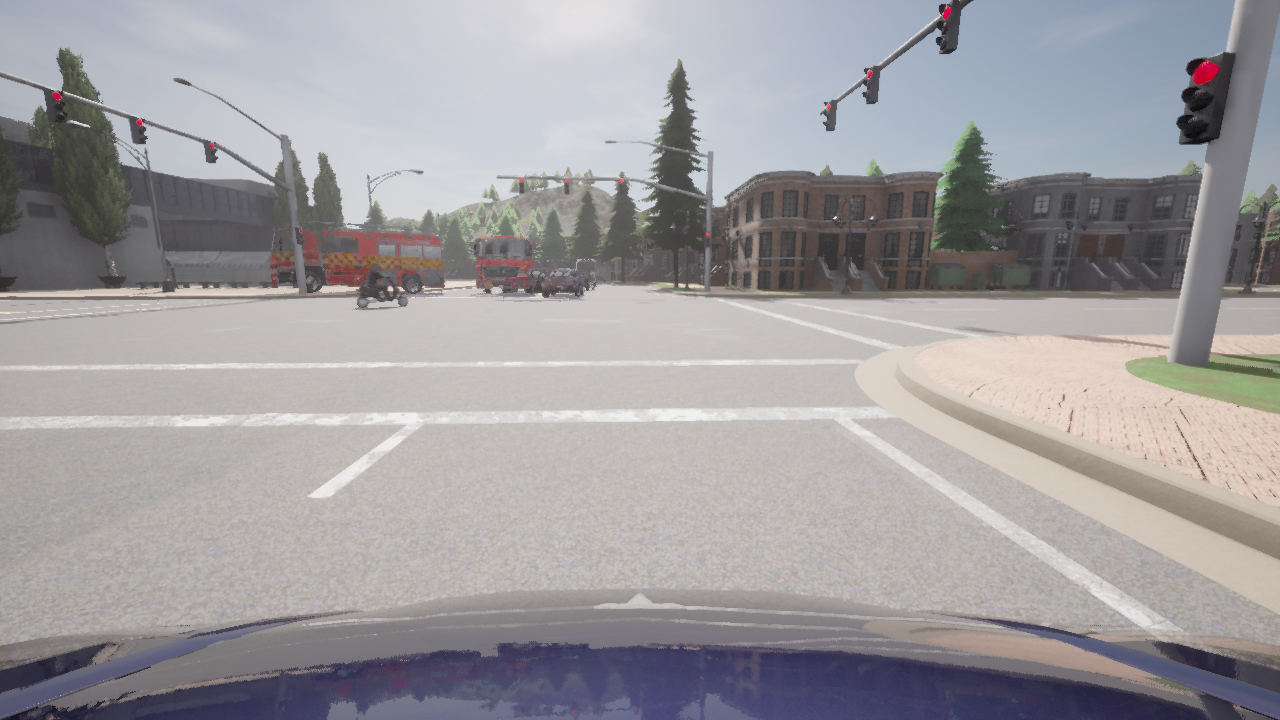cyclist: (0, 588, 1279, 719), (269, 220, 443, 294), (473, 235, 546, 293), (354, 272, 409, 307), (543, 269, 582, 296), (572, 262, 597, 278), (575, 269, 594, 290), (589, 271, 608, 282)
